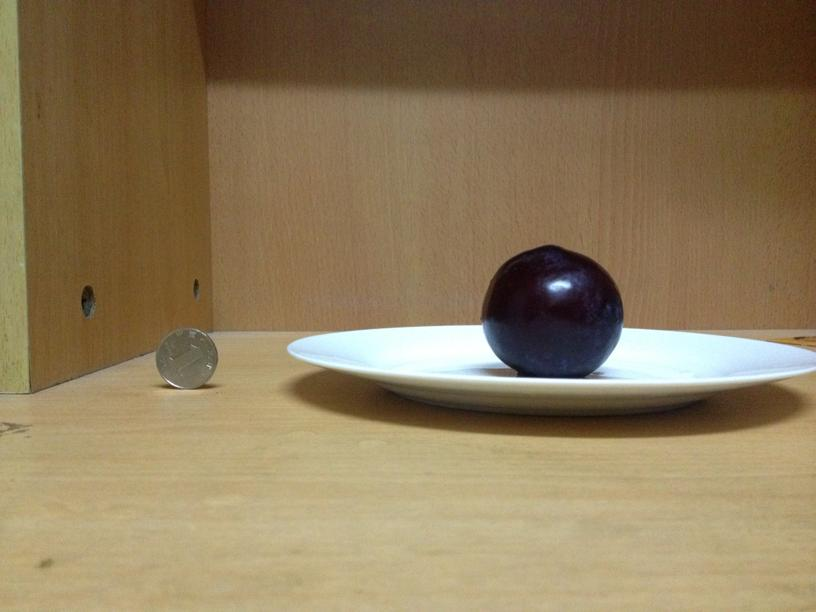coin: (157, 328, 216, 387)
plum: (489, 245, 623, 376)
